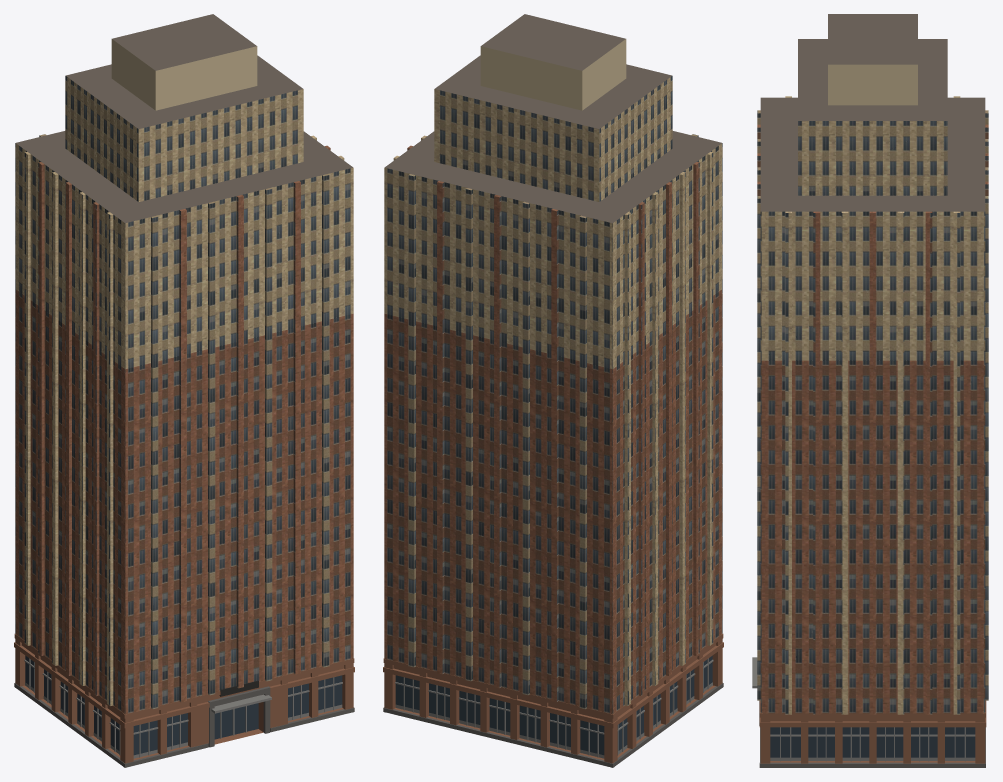
Rendered from seattle_tower.glb.
The picture shows the model from 3 angles, left to right: view 1: azimuth 30°, elevation 25°; view 2: azimuth 150°, elevation 25°; view 3: azimuth 270°, elevation 25°; orthographic projection. The views are drawn at different scales.
Parts seen in each view (by area): view 1: seattle_tower; view 2: seattle_tower; view 3: seattle_tower.
Boxes of the visible parts, x1,y1,x2,y2 form: seattle_tower: (14, 14, 354, 767); seattle_tower: (383, 14, 723, 767); seattle_tower: (752, 14, 988, 767).
Size of the model in its own units: 36.9 by 99 by 31.55.
Materials: 3 (3 with a texture image).
